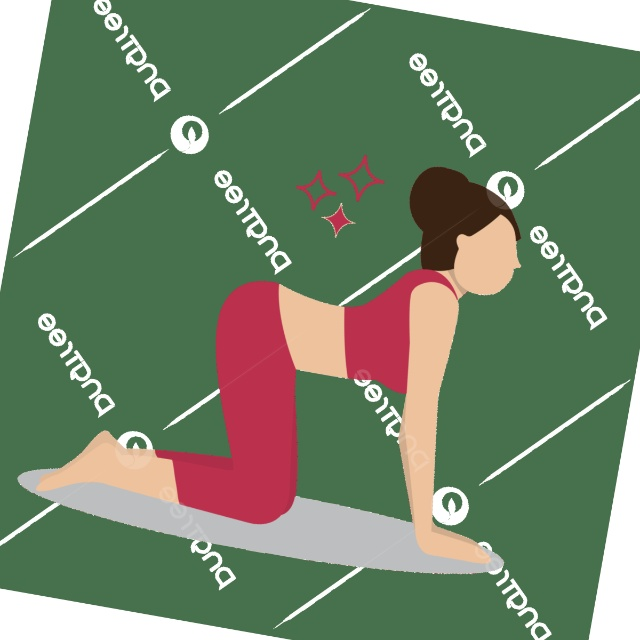Cow_Pose: (36, 184, 524, 570)
